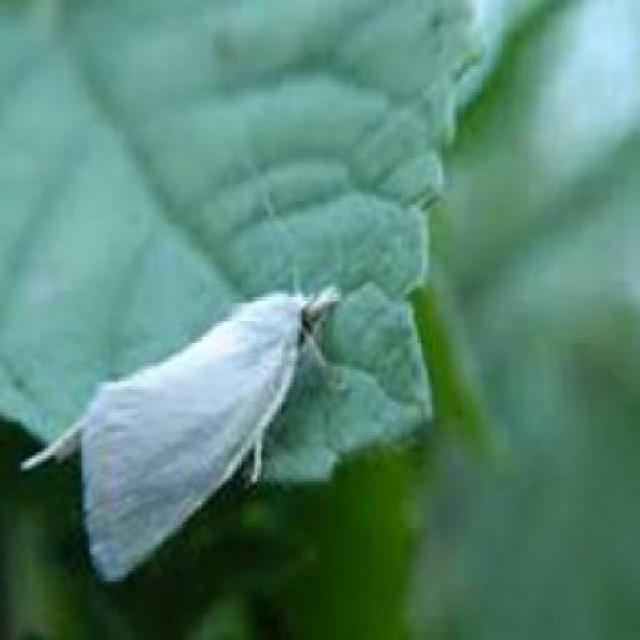stem-borer: (17, 274, 346, 592)
